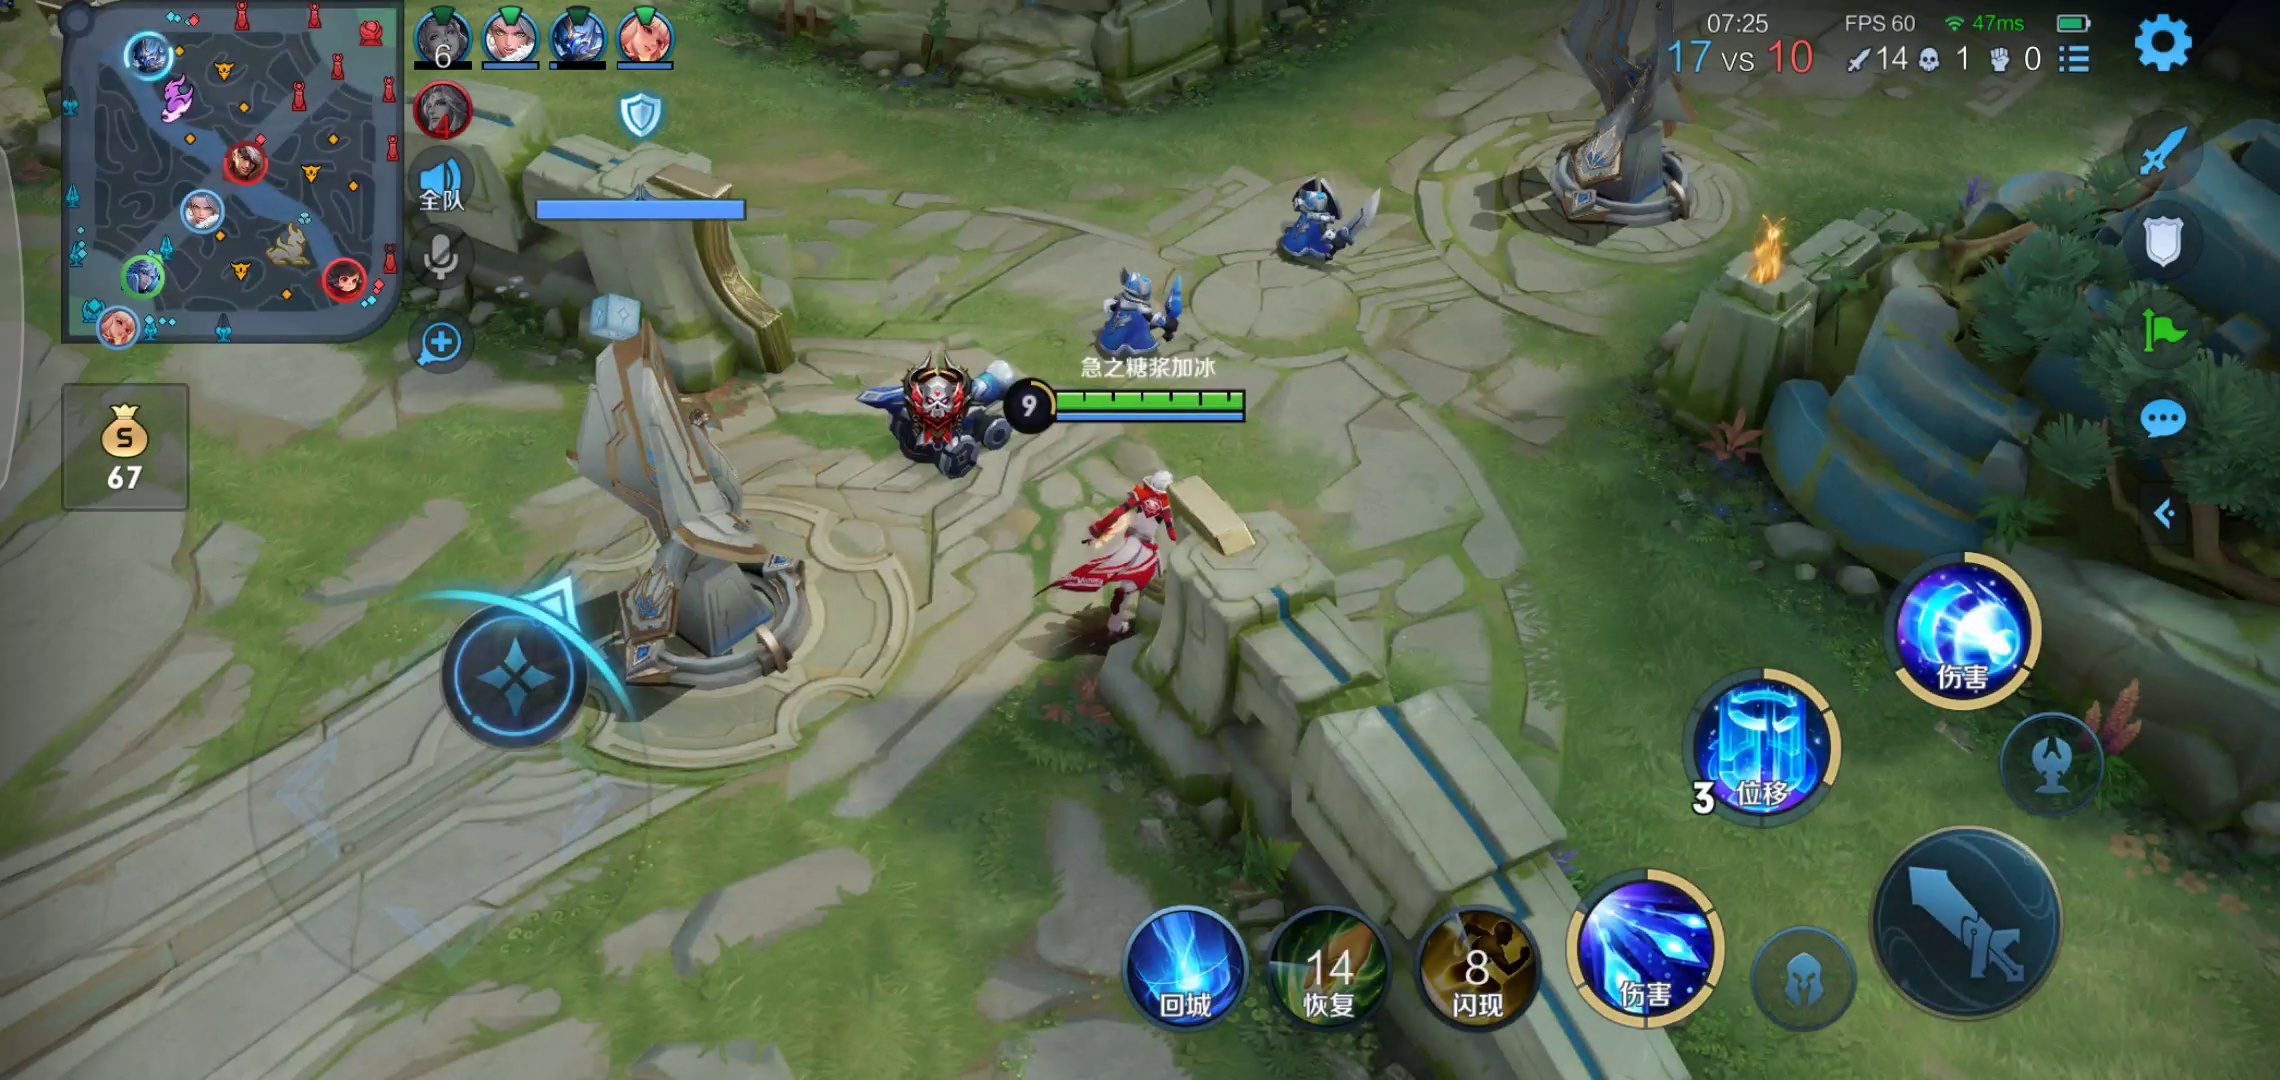hero: (1041, 459, 1185, 642)
soldier: (859, 355, 1034, 470), (1265, 177, 1386, 267), (1086, 265, 1187, 366)
tower: (521, 291, 817, 693), (1527, 1, 1738, 230)
